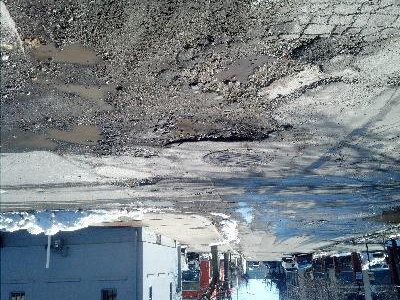pothole: (181, 37, 306, 104), (160, 112, 279, 149), (12, 121, 117, 155), (26, 40, 106, 72), (53, 81, 123, 114), (109, 175, 163, 187)
